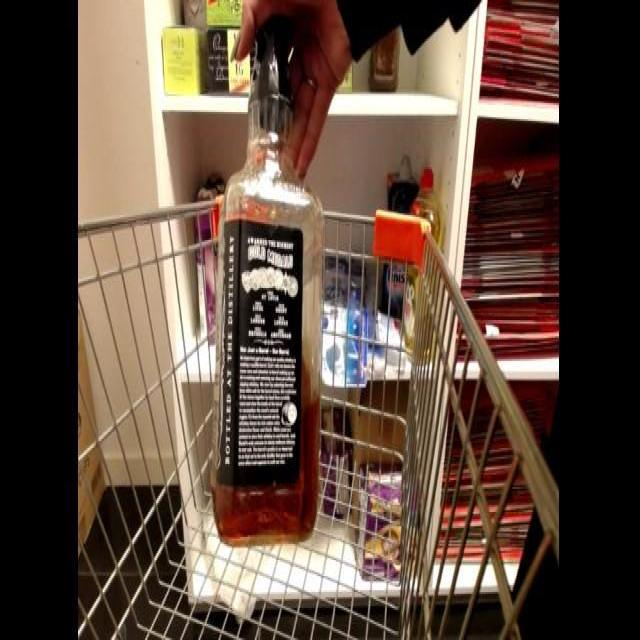Jack Daniels: (202, 22, 344, 550)
